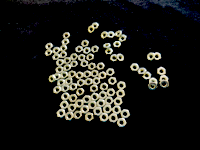nut: (117, 118, 127, 129), (160, 80, 170, 90), (88, 101, 98, 111), (121, 110, 132, 119), (158, 67, 168, 76), (149, 78, 159, 87), (130, 64, 140, 73), (109, 53, 118, 63), (109, 114, 118, 124), (116, 90, 126, 99), (113, 98, 123, 107), (103, 105, 113, 114), (69, 94, 78, 104), (142, 72, 153, 80), (149, 82, 158, 91), (108, 77, 117, 86), (70, 52, 79, 61), (100, 83, 109, 92), (105, 97, 114, 106), (100, 115, 109, 124), (98, 91, 107, 100), (81, 106, 90, 115), (65, 112, 74, 121), (61, 93, 70, 102), (75, 100, 84, 109), (55, 66, 64, 75), (112, 107, 122, 115), (107, 89, 117, 97), (86, 113, 94, 123), (138, 68, 147, 76), (154, 53, 162, 62), (118, 82, 127, 90), (108, 30, 116, 39), (100, 31, 108, 40), (117, 54, 125, 63), (104, 48, 113, 56), (91, 45, 99, 54), (59, 51, 68, 59), (97, 63, 105, 72), (91, 69, 99, 78), (90, 85, 99, 93), (83, 70, 91, 79), (85, 77, 93, 86), (77, 88, 85, 97), (97, 100, 106, 108), (57, 110, 66, 118), (74, 111, 82, 120), (77, 79, 85, 88), (70, 83, 78, 92), (61, 85, 69, 94), (60, 71, 68, 80), (159, 76, 169, 83), (148, 52, 155, 62), (119, 34, 127, 42), (114, 41, 122, 49), (115, 30, 123, 38), (87, 25, 95, 33), (83, 47, 91, 55), (76, 45, 84, 53), (52, 53, 60, 61), (107, 69, 115, 77), (99, 72, 107, 80), (88, 63, 96, 71), (86, 54, 94, 62), (78, 54, 86, 62), (93, 77, 101, 85), (94, 108, 102, 116), (91, 94, 99, 102), (83, 96, 91, 104), (60, 101, 68, 109), (77, 88, 85, 96), (57, 79, 65, 87), (68, 71, 76, 79), (62, 32, 71, 39), (45, 50, 54, 57), (80, 61, 89, 68), (54, 86, 61, 95), (70, 60, 77, 69), (103, 42, 111, 49), (81, 40, 89, 47), (62, 39, 70, 46), (60, 45, 68, 52), (53, 46, 60, 54), (64, 57, 71, 65), (56, 59, 64, 66), (76, 72, 83, 80), (68, 105, 76, 112), (66, 78, 73, 86), (49, 75, 55, 84), (92, 23, 99, 30), (46, 43, 53, 50), (54, 74, 61, 81), (64, 65, 71, 72), (103, 43, 111, 49)
